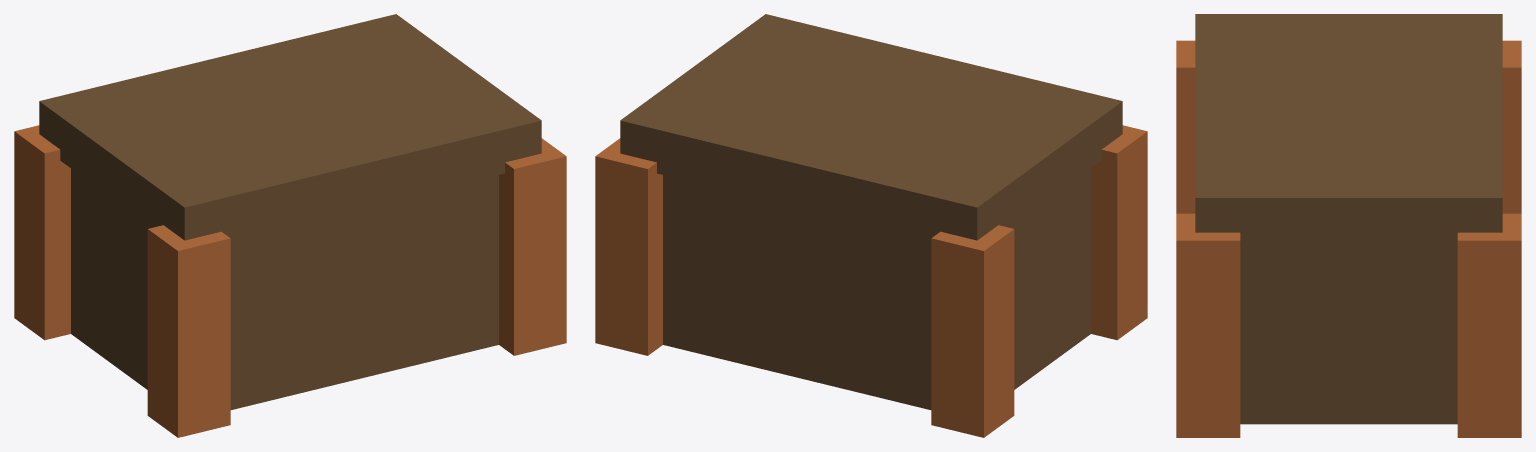
Rendered from ReliquaryWood.fbx.
The picture shows the model from 3 angles, left to right: view 1: azimuth 30°, elevation 25°; view 2: azimuth 150°, elevation 25°; view 3: azimuth 270°, elevation 25°; orthographic projection. The views are drawn at different scales.
Visible parts, largest first — view 1: ReliquaryWood; view 2: ReliquaryWood; view 3: ReliquaryWood.
Boxes of the visible parts, x1,y1,x2,y2 form: ReliquaryWood: (14,14,566,437); ReliquaryWood: (595,14,1147,437); ReliquaryWood: (1176,14,1521,437).
Bounding box in the file's own units: 0.37 × 0.2 × 0.27.
